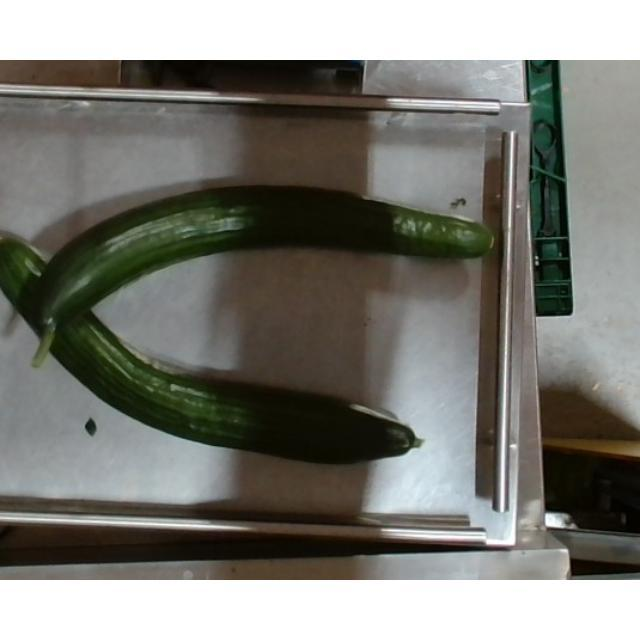cucumber: (0, 237, 424, 465), (32, 183, 494, 371)
